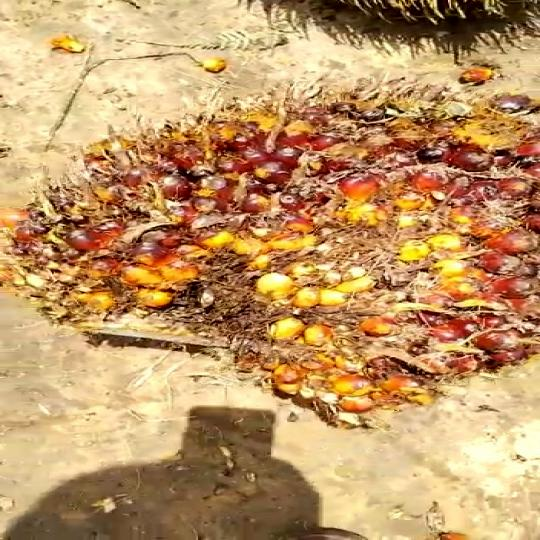masak: (0, 80, 540, 420)
